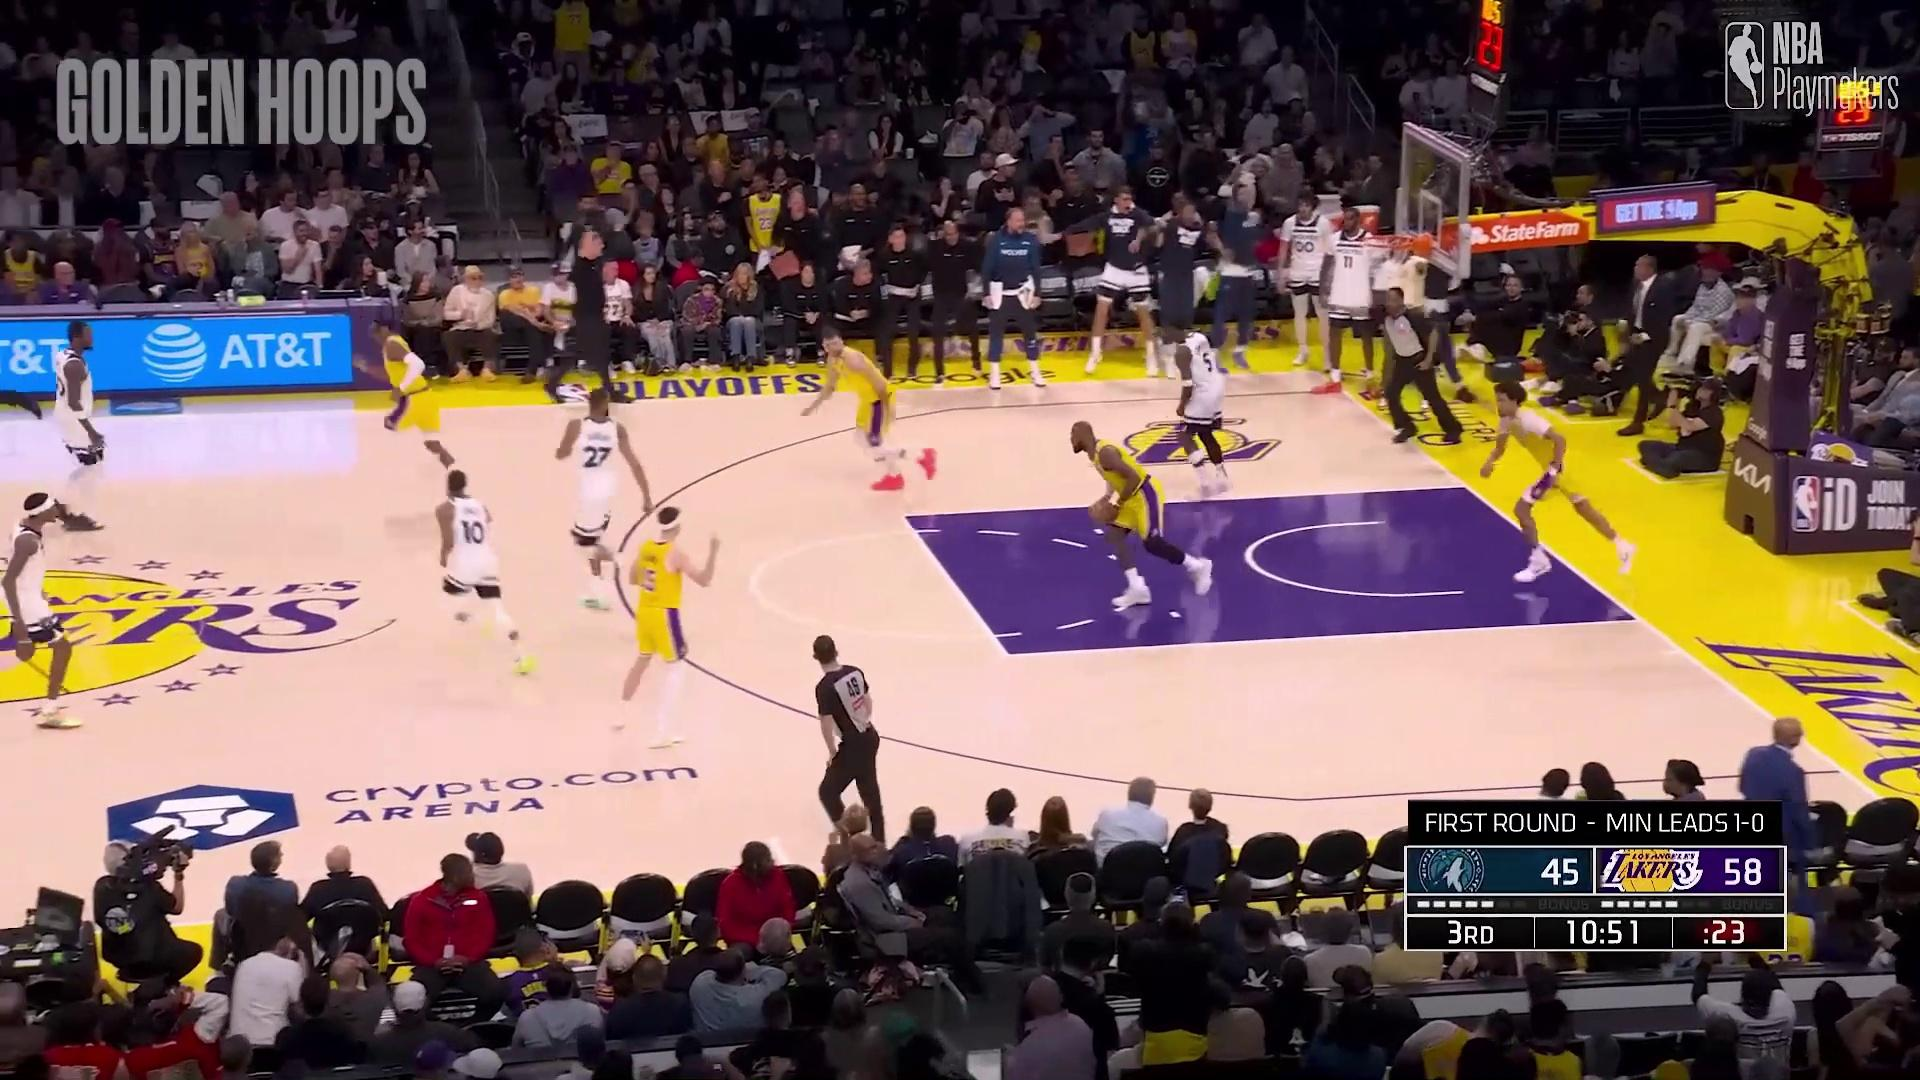ball: (1085, 497, 1117, 531)
hoop: (1370, 219, 1427, 293)
